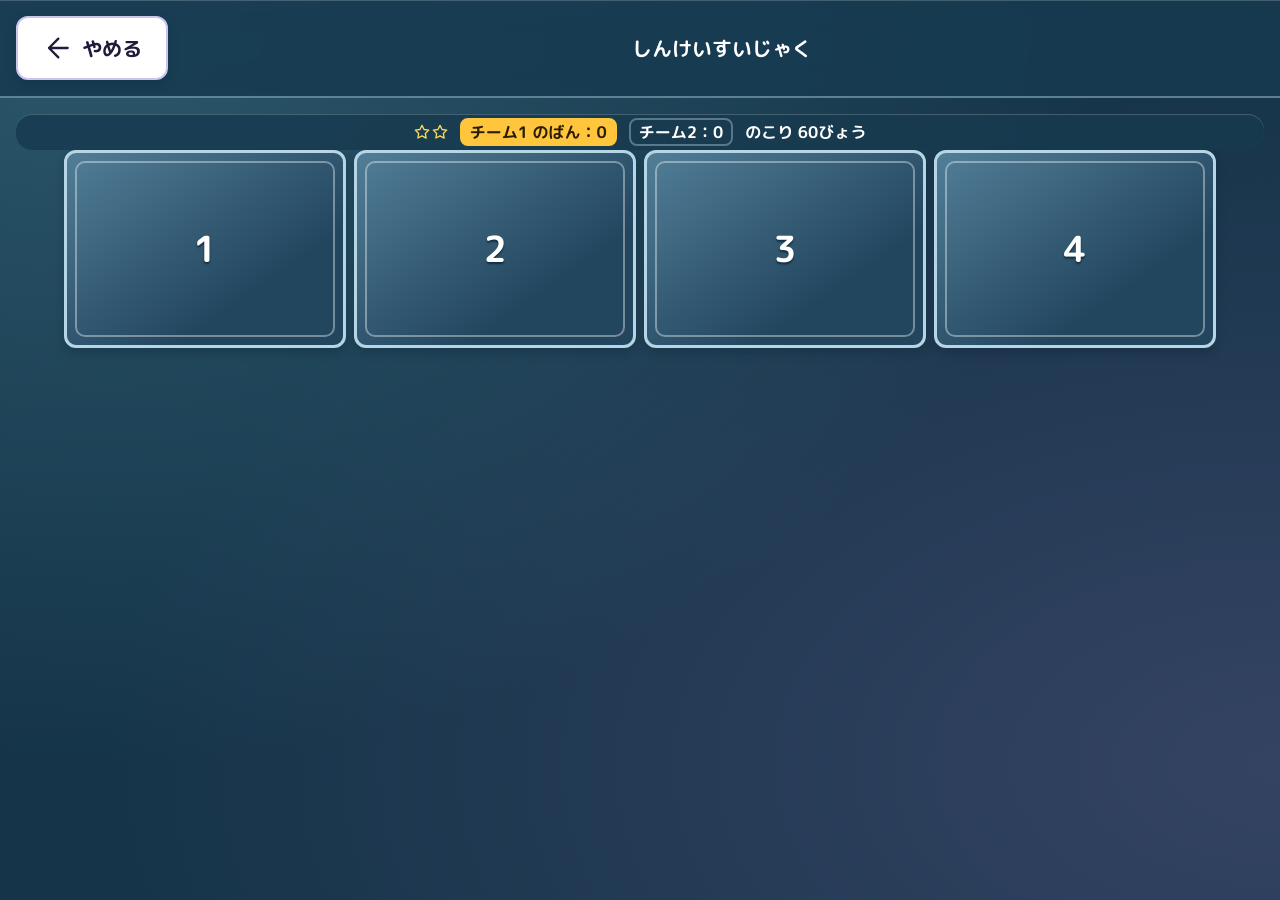
Scenario: 小学校の2チーム対抗は時間切れでも両チームの得点と結果を表示する
Click the button named "カード 1". click: (205,249)
box: [64,150,346,348]
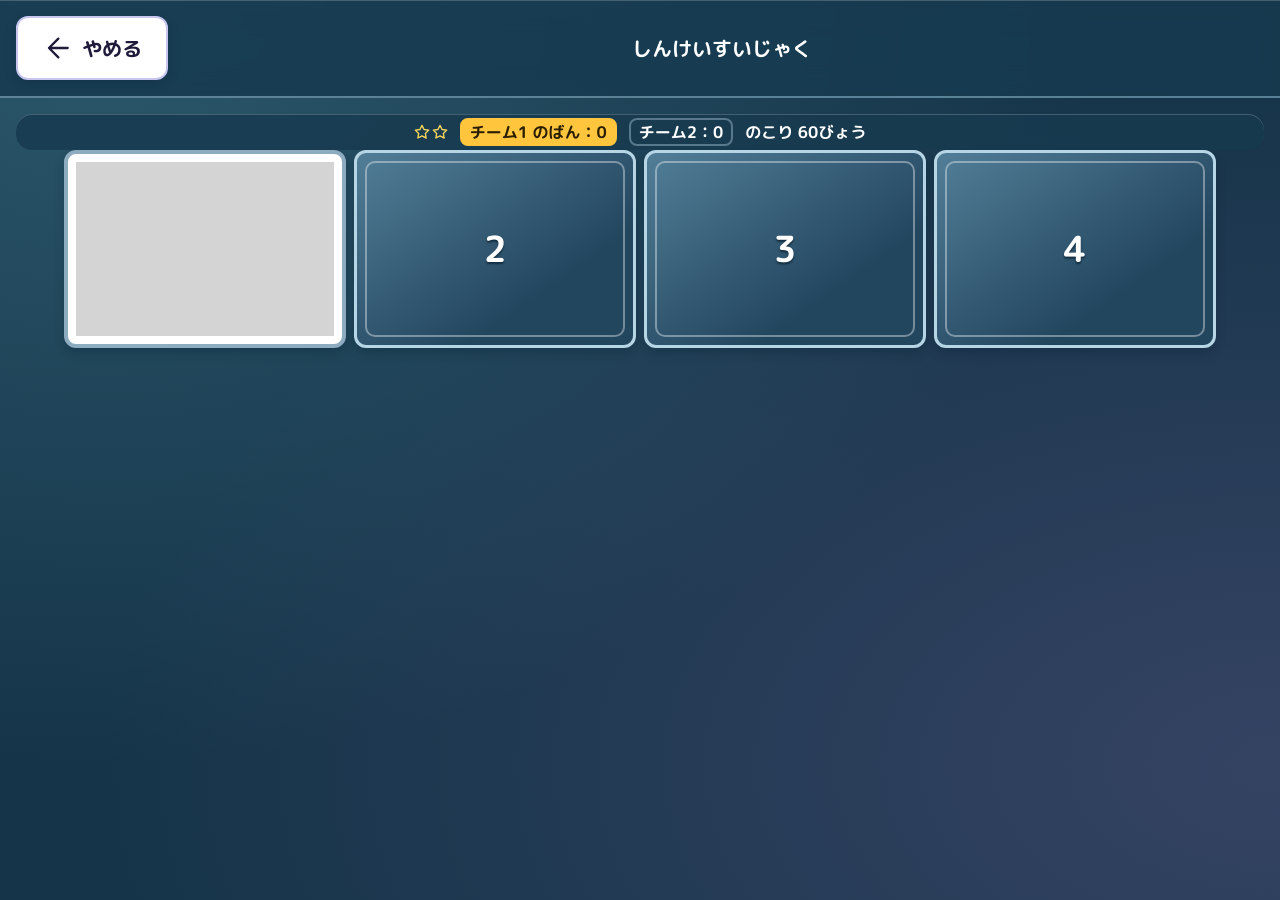
Click the button named "カード 3". click: (785,249)
box: [644,150,926,348]
Wait 900 ms
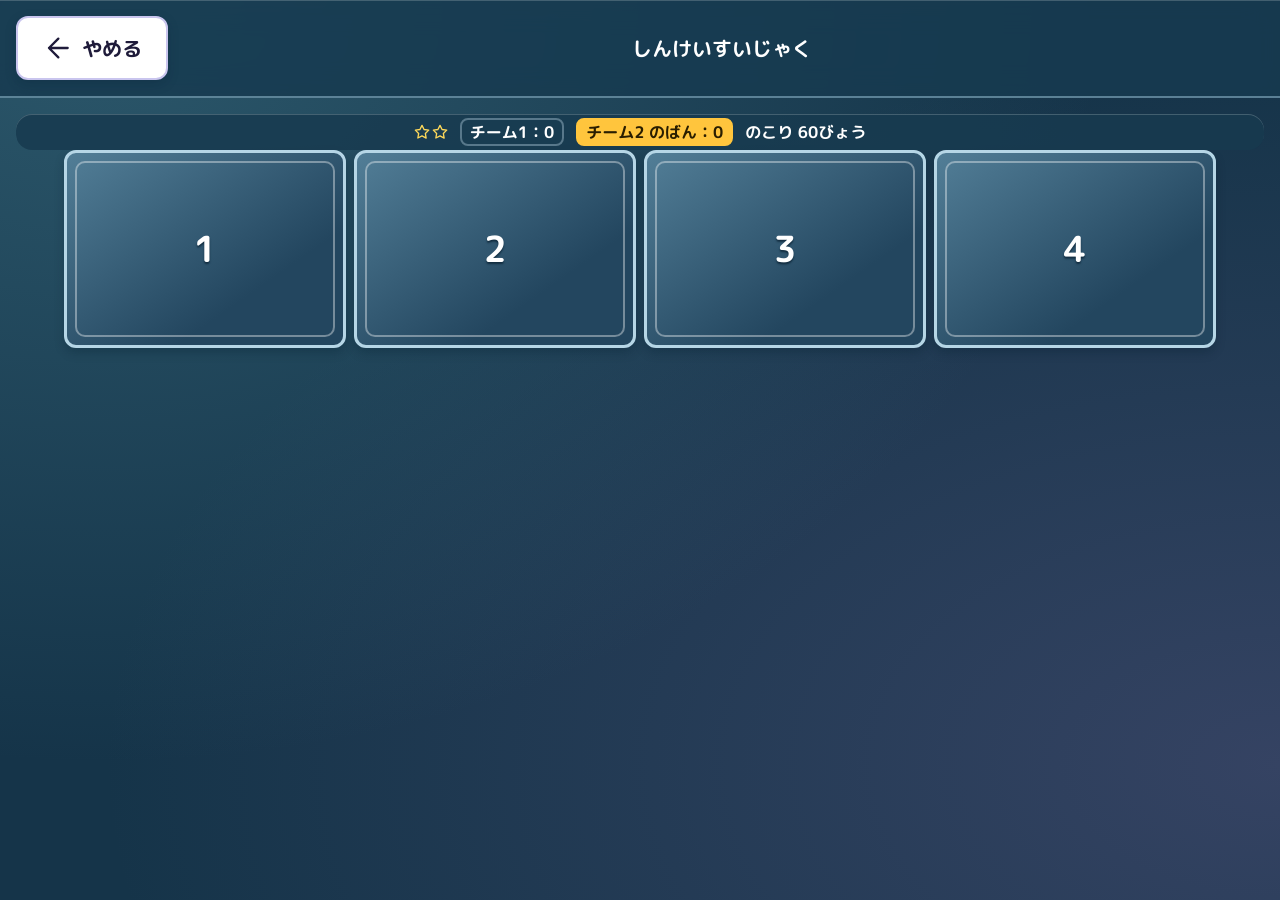
Click the button named "カード 1". click: (205,249)
box: [64,150,346,348]
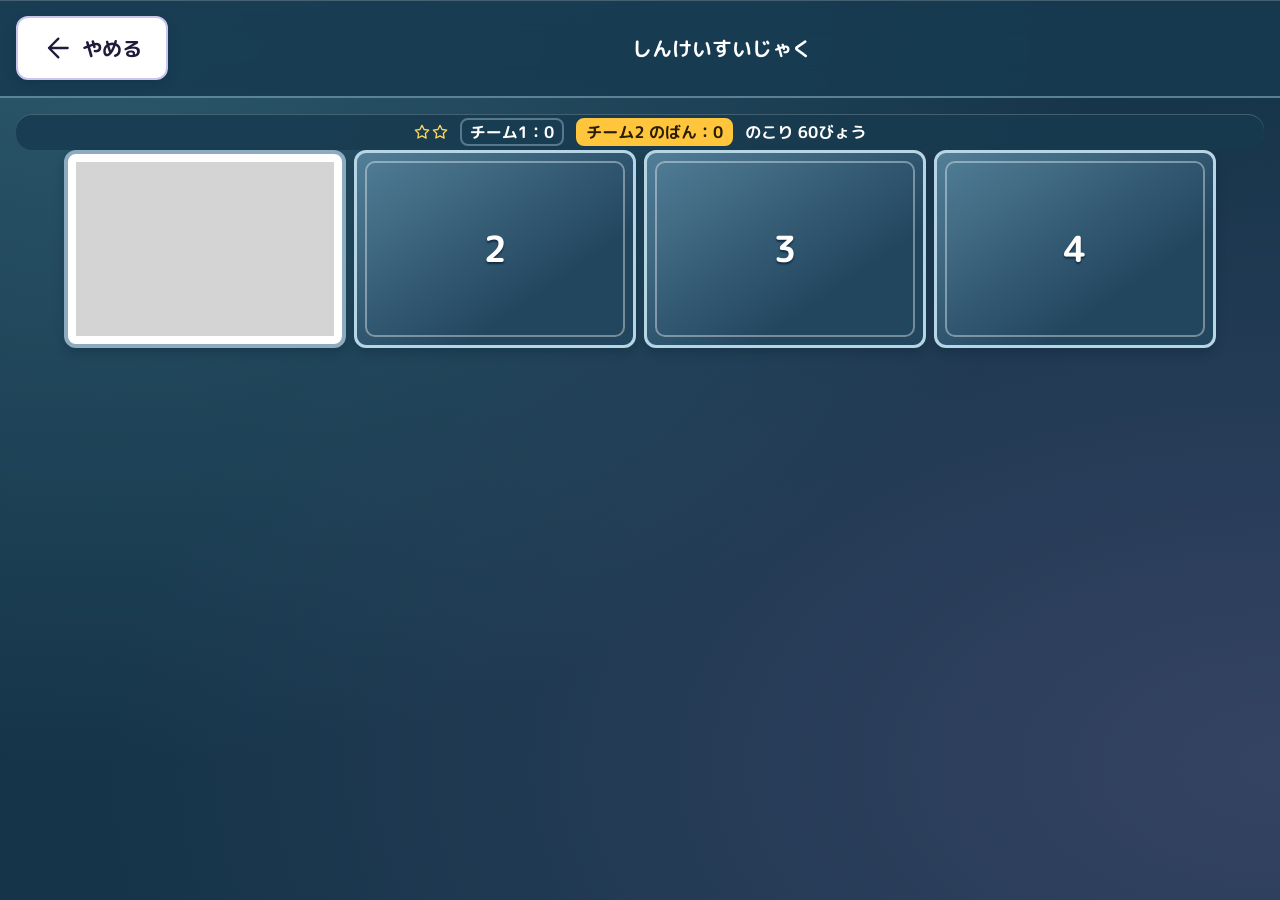
Click the button named "カード 2". click: (495,249)
box: [354,150,636,348]
Wait 59100 ms
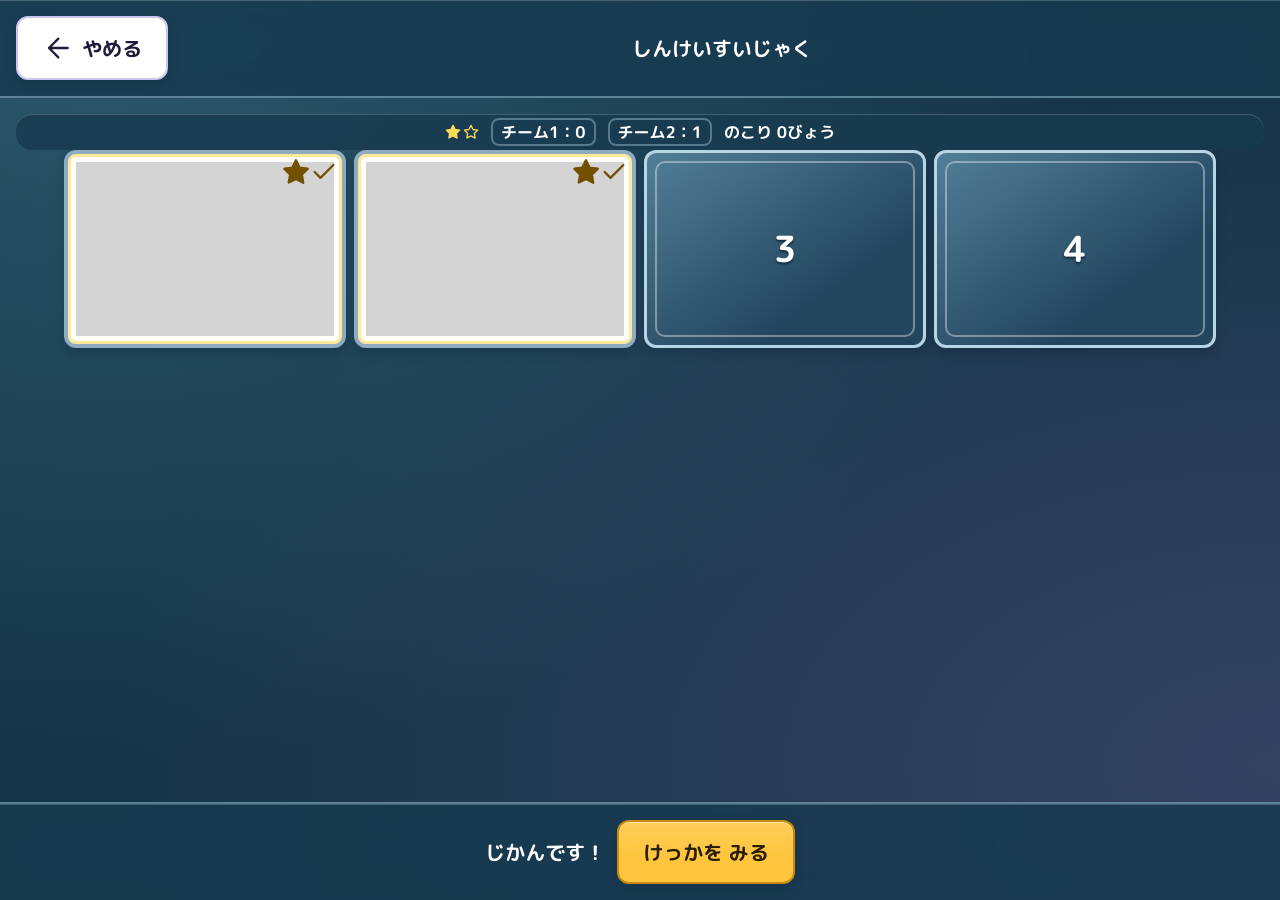
Click the button "けっかを みる". click: (706,852)
box: [617,820,795,884]
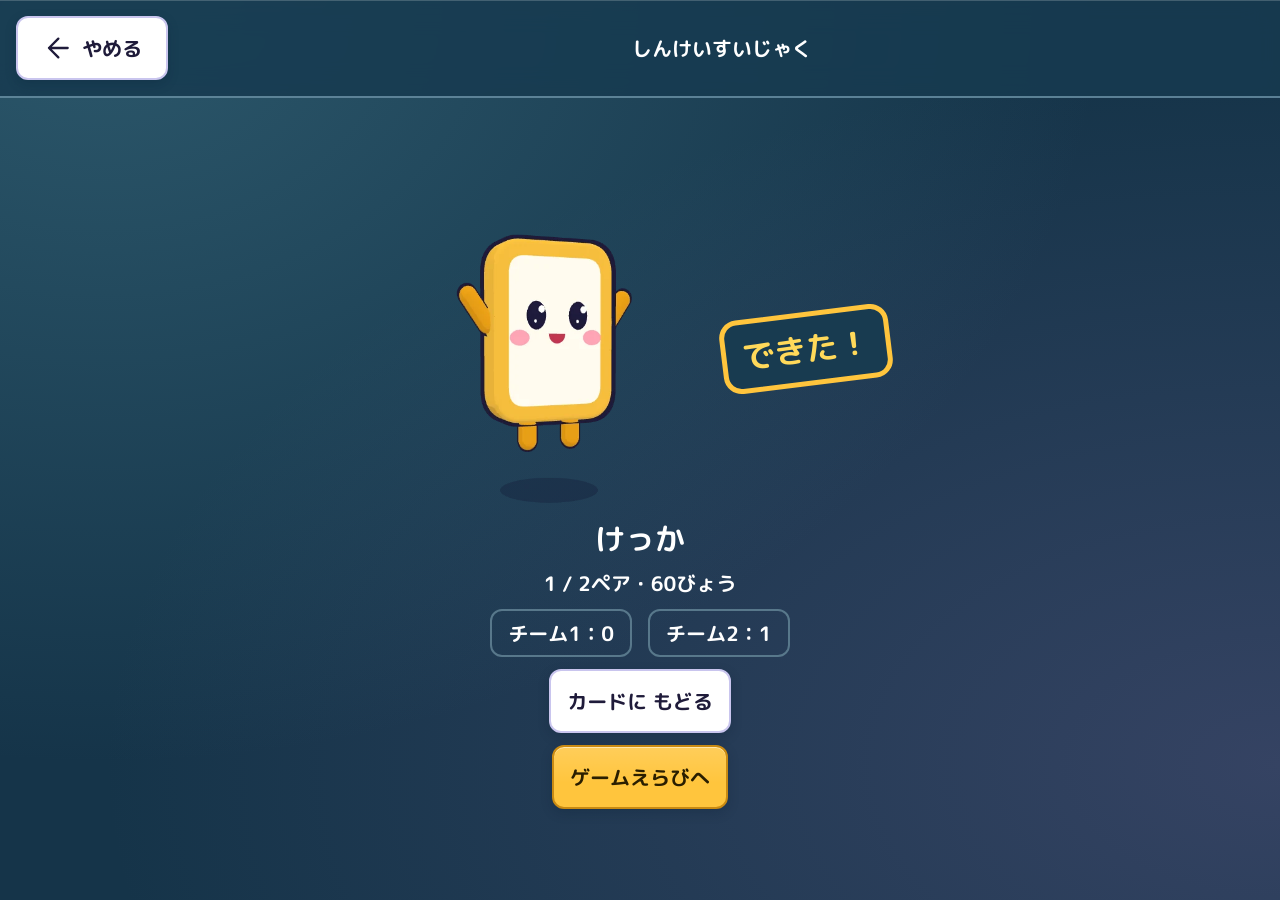
Result: the text "チーム1：0" is shown at [490,609,632,657]
Result: the text "チーム2：1" is shown at [648,609,790,657]
Result: the text "1 / 2ペア・60びょう" is shown at [544,569,736,597]
